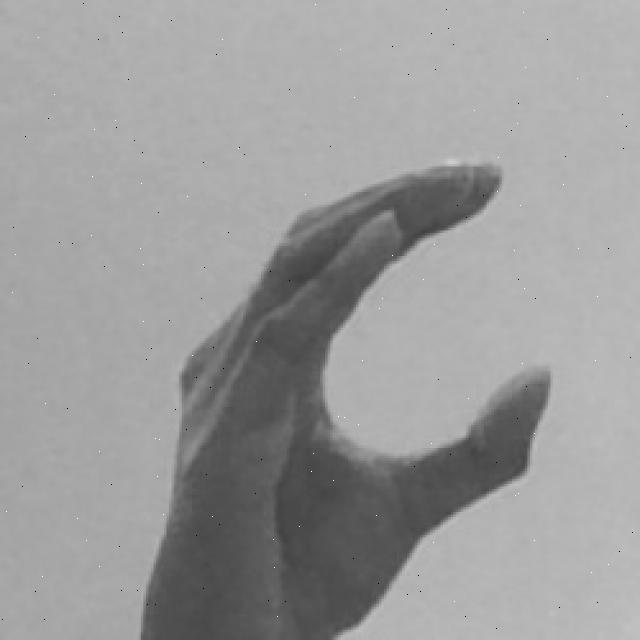C: (133, 160, 553, 640)
